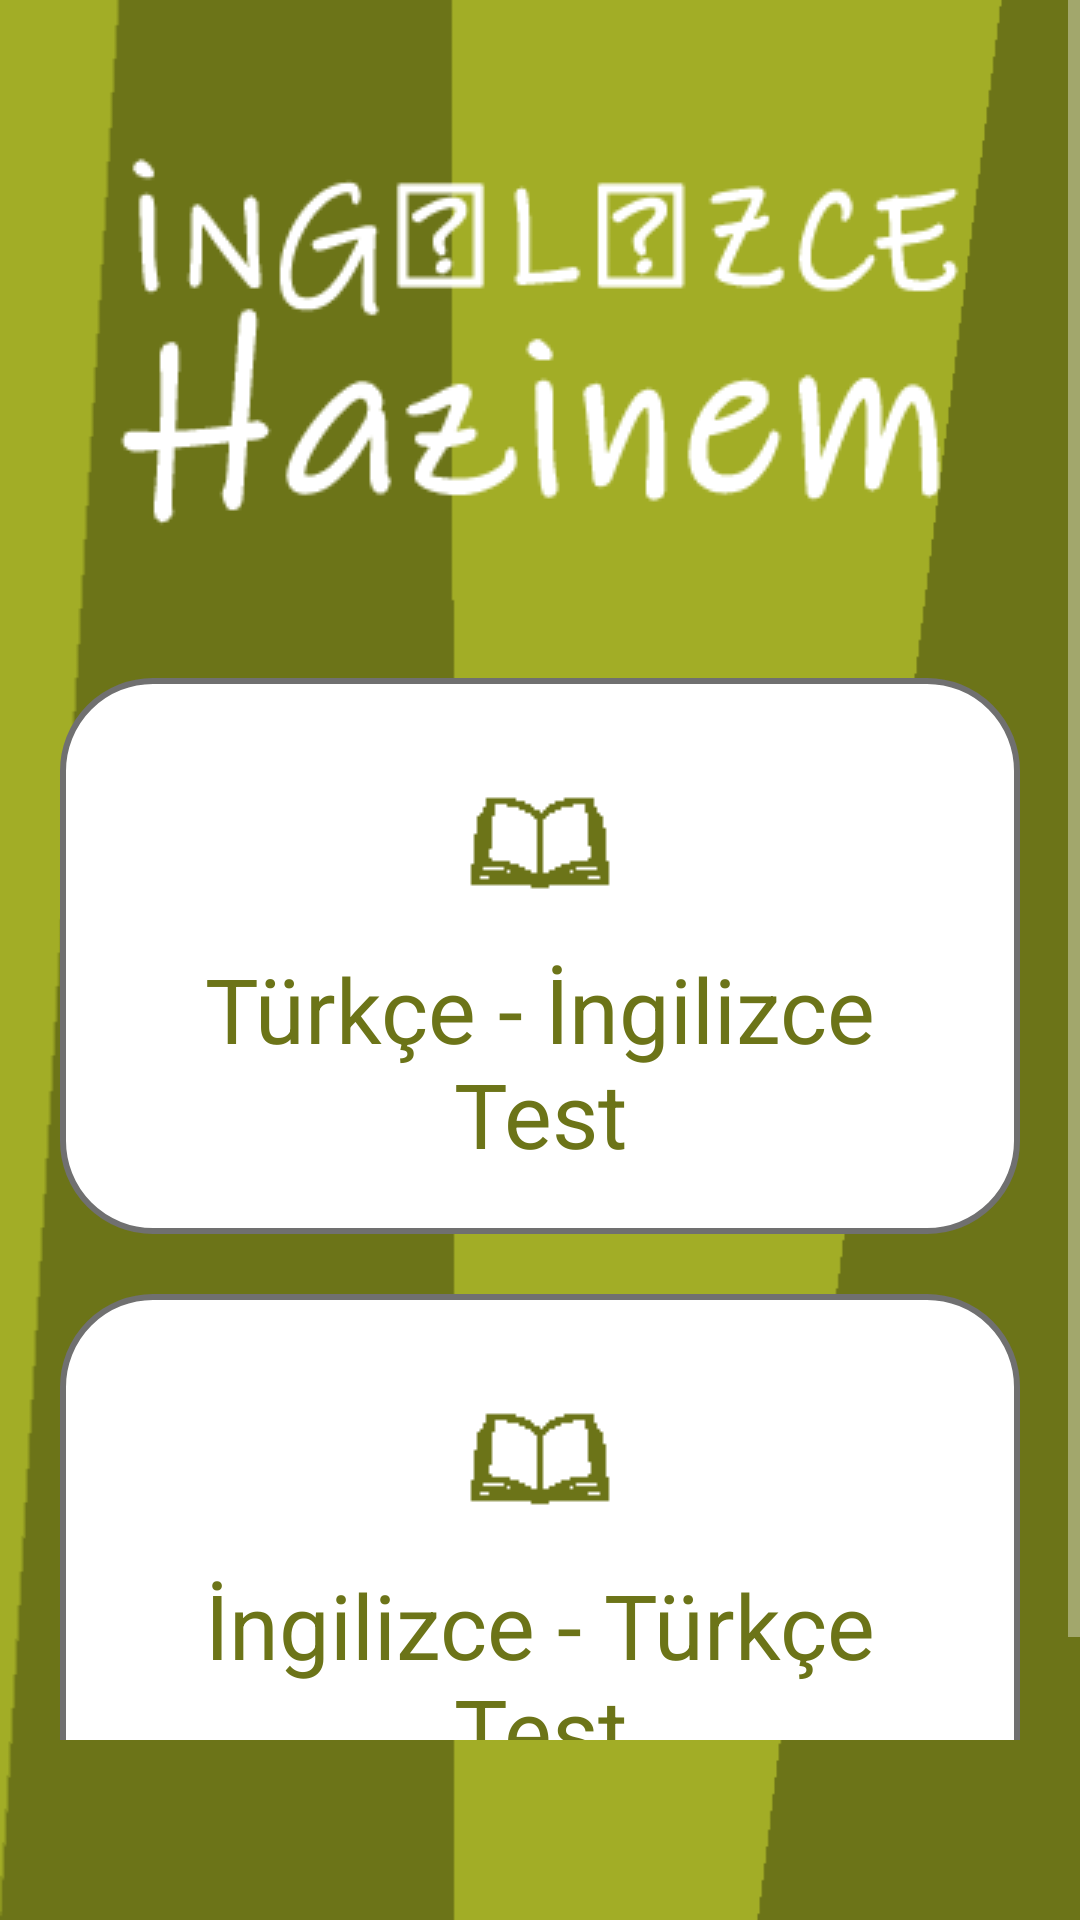

Point at icon controls on the screen. Image size 1080w x 1920h, points as [x,y].
kelimelerigor: [540,843], [540,1459]
